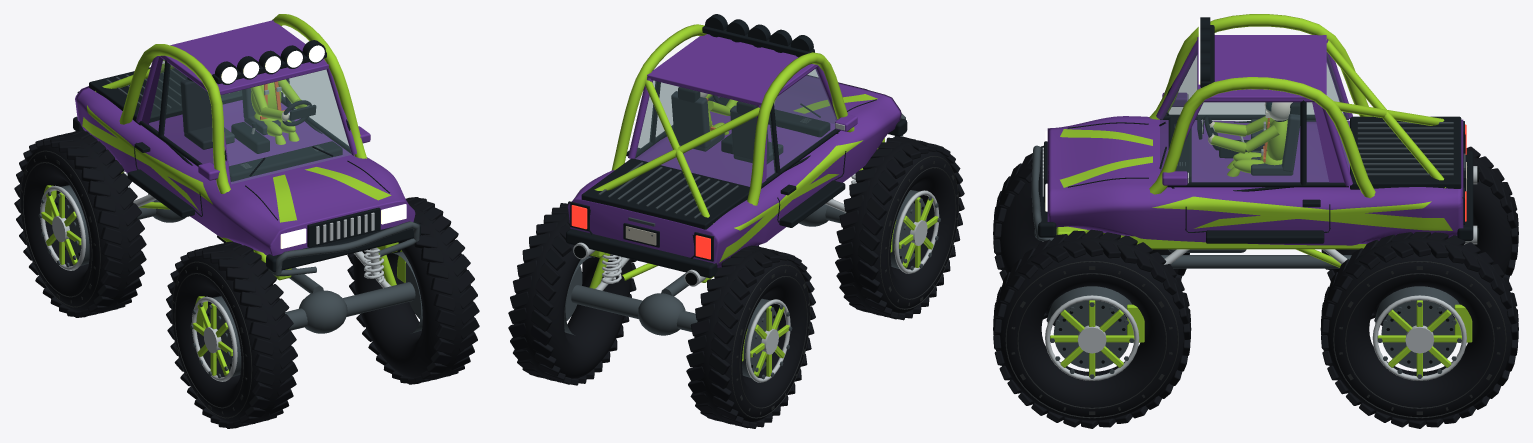
Rendered from titan_monster.glb.
3 renders of one model, left to right at view 1: azimuth 30°, elevation 25°; view 2: azimuth 150°, elevation 25°; view 3: azimuth 270°, elevation 25°, orthographic. The views are drawn at different scales.
Visible parts, largest first — view 1: Tire rubber (×3), Lacquered body, Glass, Carbon and trim, Race livery (×4), Dark machined metal (×4), Machined aluminum (×3), Cabin fabric, Raised sidewall rubber (×2), Driver_helmet_and_harness, Headlamp lenses; view 2: Tire rubber (×3), Lacquered body, Carbon and trim, Race livery (×4), Glass, Dark machined metal (×4), Machined aluminum (×3), Cabin fabric, Raised sidewall rubber (×2), Brake lenses, Driver_helmet_and_harness; view 3: Tire rubber (×4), Lacquered body, Race livery (×4), Carbon and trim, Dark machined metal (×3), Glass, Machined aluminum (×3), Raised sidewall rubber (×2), Driver_helmet_and_harness, Cabin fabric.
Boxes of the visible parts, left/top/right/bottom form: Tire rubber (×3): left=14, top=130, right=479, bottom=428; Lacquered body: left=75, top=20, right=415, bottom=255; Glass: left=149, top=59, right=351, bottom=183; Carbon and trim: left=73, top=40, right=420, bottom=272; Race livery (×4): left=41, top=14, right=398, bottom=375; Dark machined metal (×4): left=38, top=69, right=422, bottom=378; Machined aluminum (×3): left=40, top=105, right=391, bottom=381; Cabin fabric: left=180, top=79, right=294, bottom=149; Raised sidewall rubber (×2): left=20, top=150, right=252, bottom=418; Driver_helmet_and_harness: left=251, top=79, right=307, bottom=144; Headlamp lenses: left=221, top=45, right=406, bottom=248; Tire rubber (×3): left=508, top=136, right=964, bottom=428; Lacquered body: left=568, top=34, right=901, bottom=267; Carbon and trim: left=566, top=14, right=907, bottom=278; Race livery (×4): left=580, top=24, right=938, bottom=376; Glass: left=635, top=69, right=836, bottom=186; Dark machined metal (×4): left=564, top=113, right=940, bottom=379; Machined aluminum (×3): left=573, top=123, right=939, bottom=382; Cabin fabric: left=671, top=91, right=783, bottom=164; Raised sidewall rubber (×2): left=731, top=156, right=958, bottom=418; Brake lenses: left=571, top=205, right=710, bottom=259; Driver_helmet_and_harness: left=700, top=92, right=737, bottom=135; Tire rubber (×4): left=993, top=145, right=1518, bottom=428; Lacquered body: left=1047, top=35, right=1463, bottom=245; Race livery (×4): left=1050, top=14, right=1461, bottom=377; Carbon and trim: left=1038, top=17, right=1473, bottom=243; Dark machined metal (×3): left=1031, top=122, right=1467, bottom=378; Glass: left=1160, top=49, right=1348, bottom=181; Machined aluminum (×3): left=1042, top=94, right=1477, bottom=380; Raised sidewall rubber (×2): left=1005, top=261, right=1506, bottom=418; Driver_helmet_and_harness: left=1208, top=102, right=1292, bottom=176; Cabin fabric: left=1251, top=114, right=1300, bottom=175.
Bounding box in the file's own units: 2.81 × 3.6 × 5.2.
